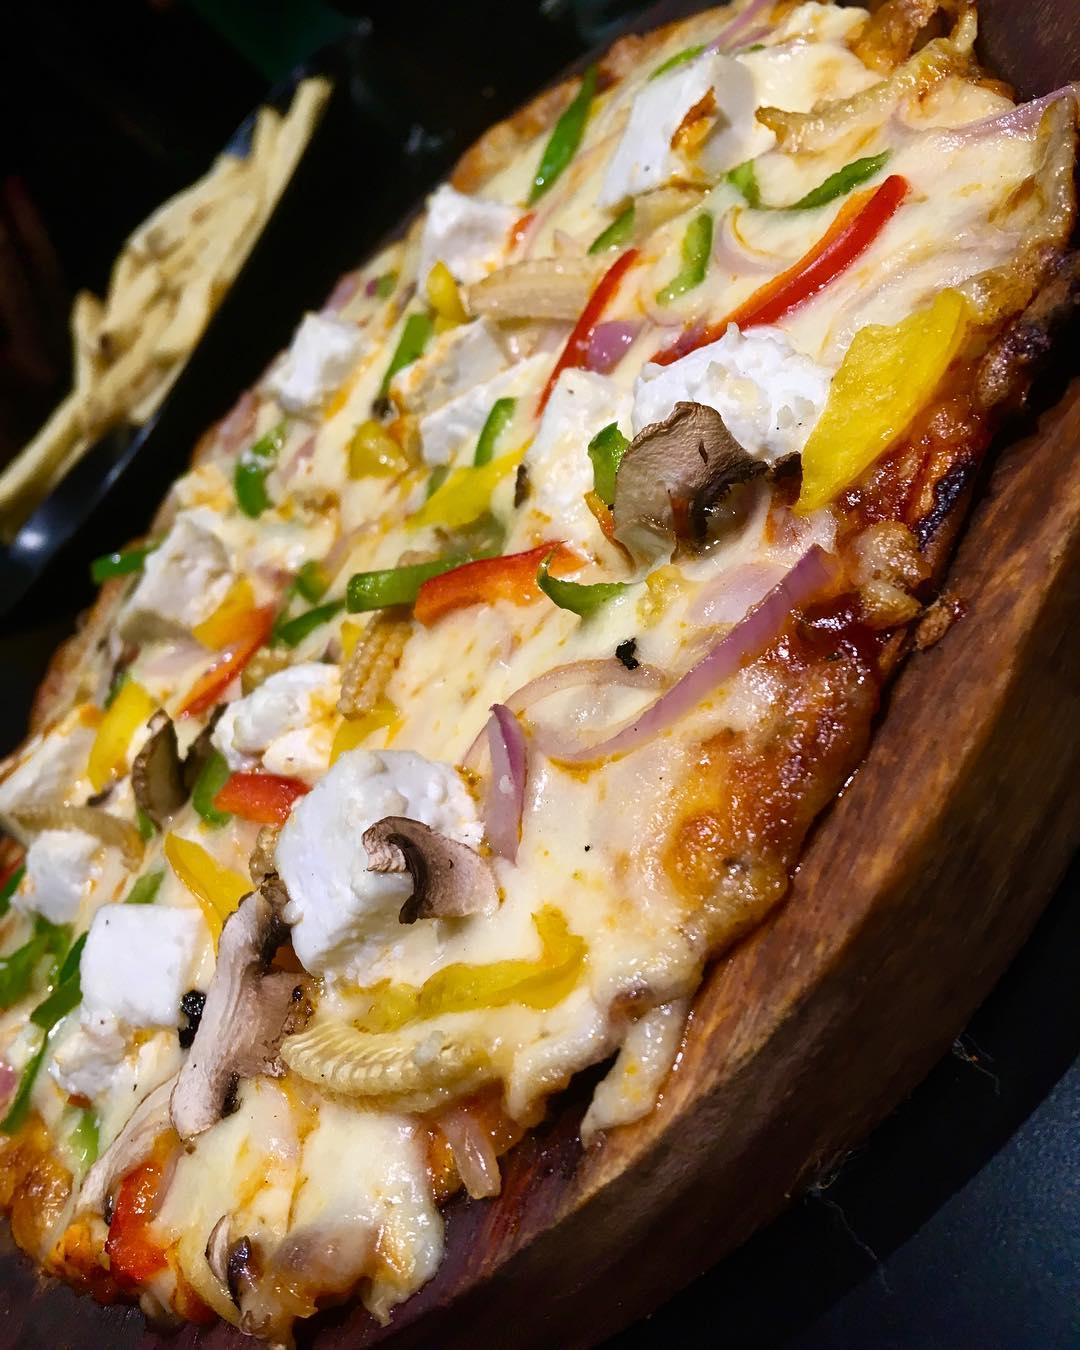Cheese: (270, 766, 478, 949), (0, 727, 106, 921), (71, 906, 213, 1036), (639, 356, 801, 434), (216, 670, 343, 755), (127, 526, 230, 627)
Mushroom: (170, 883, 311, 1144), (611, 400, 770, 573), (128, 711, 192, 816)
Peppers: (659, 174, 916, 356), (355, 907, 588, 1038), (346, 540, 611, 622), (536, 245, 637, 417), (175, 601, 274, 711), (525, 65, 597, 204), (228, 418, 302, 520), (218, 769, 309, 821), (348, 418, 411, 482), (423, 257, 475, 327)
Pizza: (0, 0, 1080, 1350)
